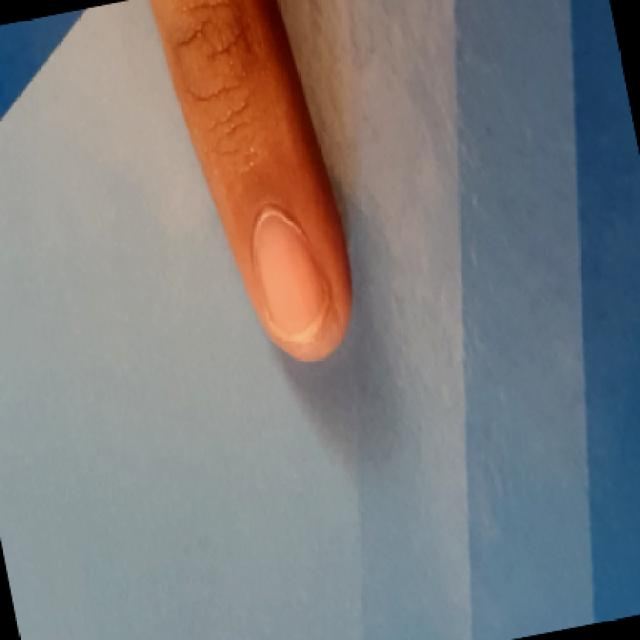Nail: (250, 210, 329, 342)
